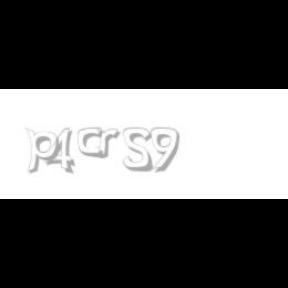4: (44, 128, 76, 174)
9: (150, 128, 180, 172)
S: (122, 128, 154, 172)
c: (78, 128, 106, 160)
p: (26, 128, 62, 174)
r: (96, 128, 124, 158)
